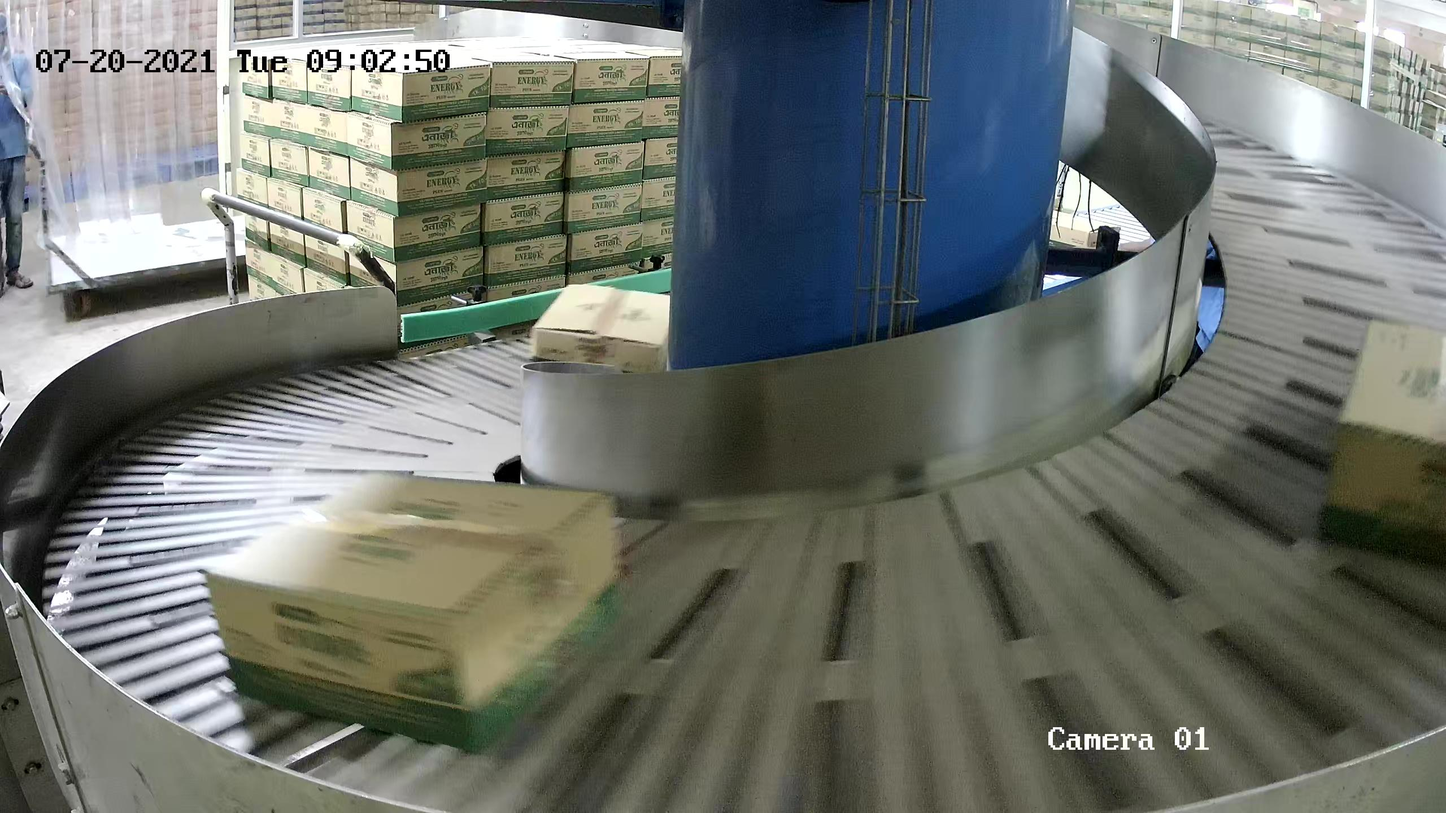Box: (203, 470, 631, 755), (1321, 316, 1446, 560)
